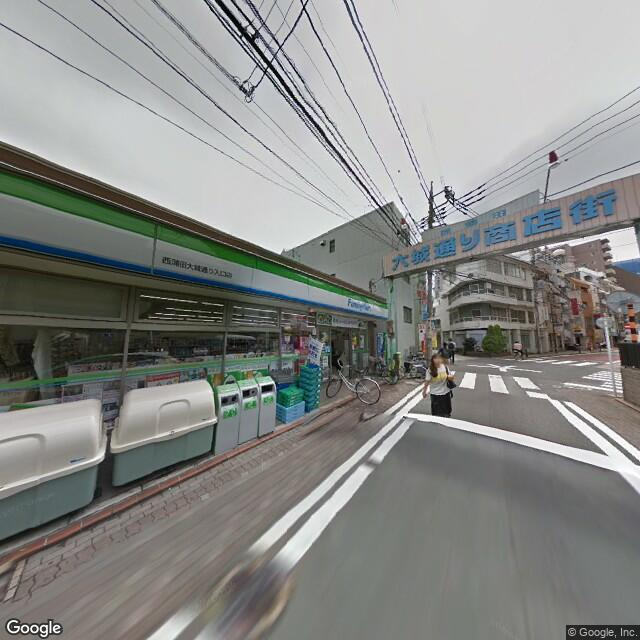family_mart: (1, 171, 391, 323), (340, 290, 375, 318)
